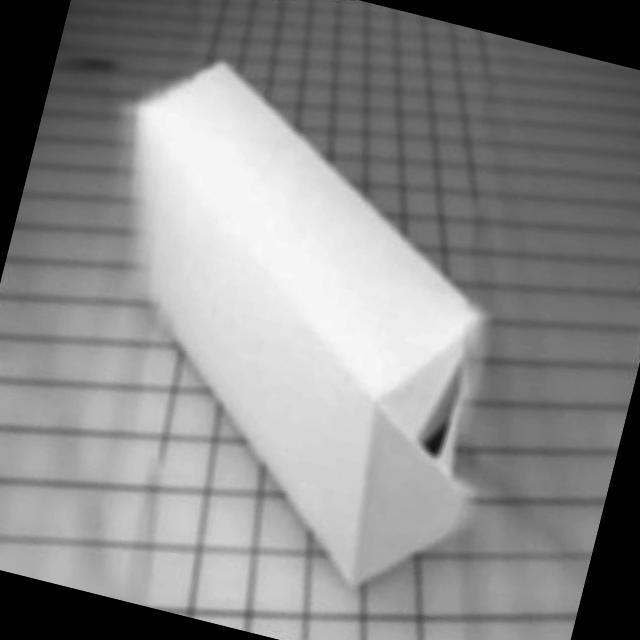box: (3, 0, 634, 640)
